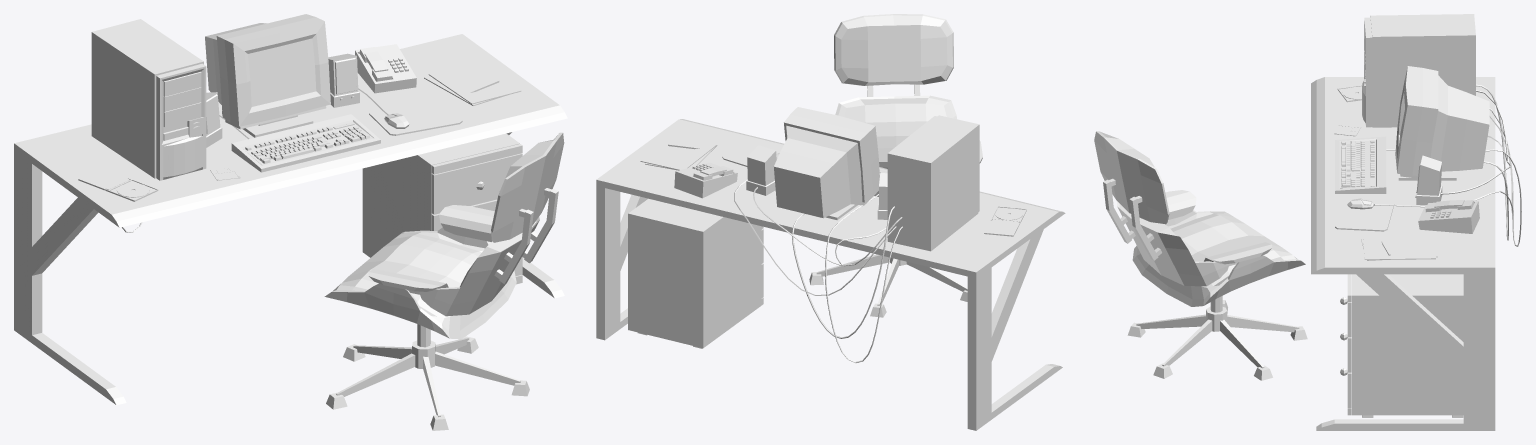
3 views of the same model, side by side, from view 1: azimuth 30°, elevation 25°; view 2: azimuth 150°, elevation 25°; view 3: azimuth 270°, elevation 25° (orthographic). The views are drawn at different scales.
Visible parts, largest first — view 1: Office_desk, Cube.000, Computer_case, Computer_monitor.001, Drawers, Keyboard, Paper2, Mousepad, Phone_stand, SpeakerL, CD_case, SpeakerR (+1 smaller); view 2: Office_desk, Drawers, Cube.000, Computer_case, Computer_monitor.001, Paper2, SpeakerL, Phone_stand, CD_case, Monitor_cable, KeyboardCable, Mousepad (+2 smaller); view 3: Office_desk, Cube.000, Drawers, Computer_case, Computer_monitor.001, Keyboard, Paper2, Mousepad, Phone_stand, SpeakerL, Monitor_cable, KeyboardCable (+1 smaller).
Part boxes in pixels (left/top/right/bottom): Office_desk: left=14, top=34, right=567, bottom=405; Cube.000: left=324, top=132, right=564, bottom=430; Computer_case: left=91, top=19, right=206, bottom=180; Computer_monitor.001: left=205, top=14, right=330, bottom=137; Drawers: left=362, top=133, right=522, bottom=284; Keyboard: left=231, top=114, right=380, bottom=172; Paper2: left=428, top=61, right=521, bottom=104; Mousepad: left=369, top=99, right=462, bottom=135; Phone_stand: left=355, top=44, right=416, bottom=93; SpeakerL: left=328, top=53, right=359, bottom=107; CD_case: left=78, top=168, right=158, bottom=201; SpeakerR: left=206, top=92, right=222, bottom=147; Office_desk: left=596, top=119, right=1065, bottom=430; Drawers: left=628, top=198, right=763, bottom=348; Cube.000: left=809, top=14, right=982, bottom=317; Computer_case: left=887, top=115, right=979, bottom=251; Computer_monitor.001: left=774, top=107, right=879, bottom=220; Paper2: left=640, top=135, right=716, bottom=170; SpeakerL: left=746, top=145, right=776, bottom=195; Phone_stand: left=674, top=162, right=737, bottom=198; CD_case: left=984, top=206, right=1026, bottom=236; Monitor_cable: left=792, top=206, right=894, bottom=338; KeyboardCable: left=825, top=194, right=902, bottom=362; Mousepad: left=722, top=141, right=781, bottom=166; Office_desk: left=1311, top=77, right=1495, bottom=430; Cube.000: left=1094, top=131, right=1307, bottom=380; Drawers: left=1340, top=274, right=1463, bottom=417; Computer_case: left=1362, top=14, right=1475, bottom=127; Computer_monitor.001: left=1395, top=66, right=1489, bottom=180; Keyboard: left=1335, top=136, right=1386, bottom=193; Paper2: left=1363, top=237, right=1435, bottom=259; Mousepad: left=1335, top=199, right=1394, bottom=231; Phone_stand: left=1418, top=201, right=1479, bottom=233; SpeakerL: left=1415, top=155, right=1442, bottom=205; Monitor_cable: left=1476, top=84, right=1508, bottom=240; KeyboardCable: left=1386, top=108, right=1521, bottom=246.
Size of the model in its own units: 188 by 116 by 178.
Materials: 2 (2 with a texture image).
